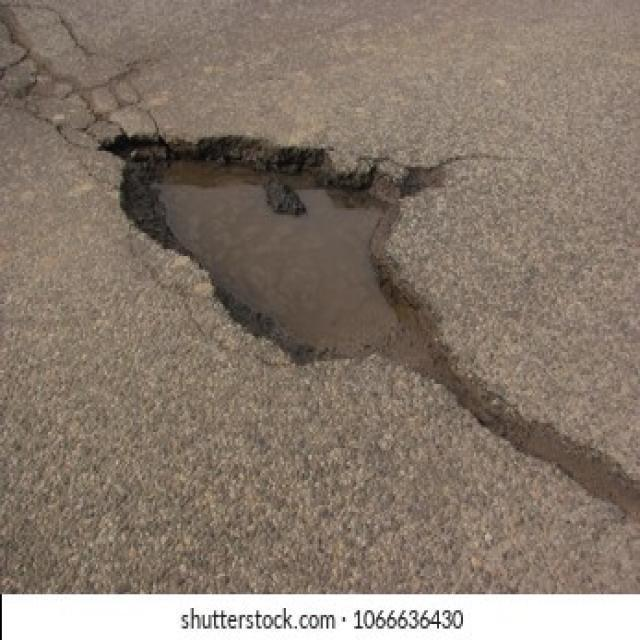Buraco: (93, 130, 640, 522)
